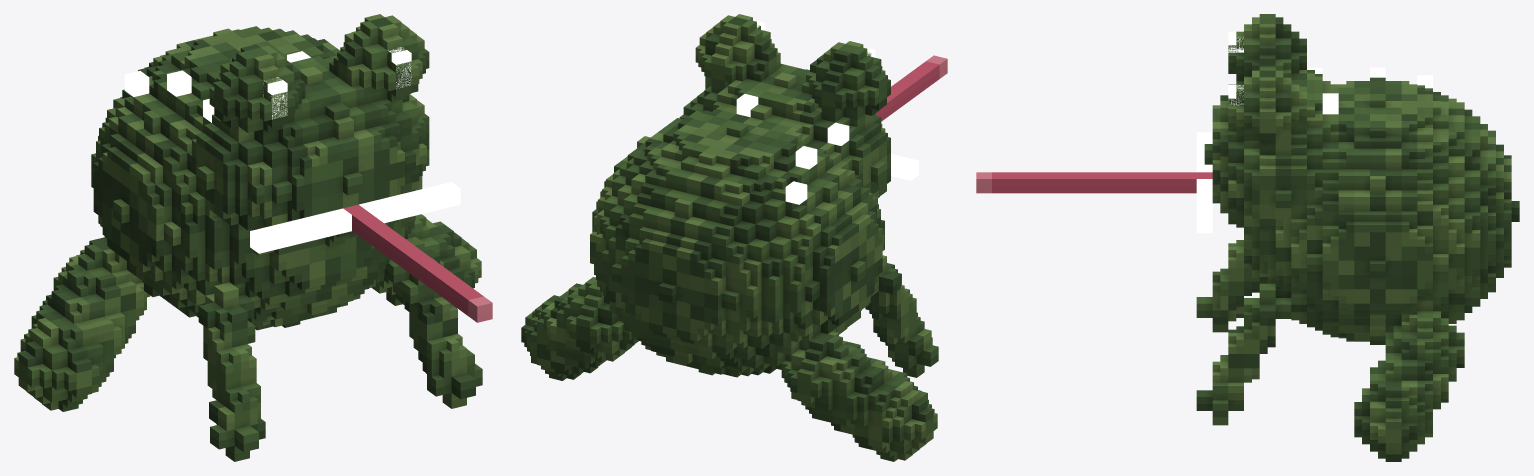
Rendered from u_crapaud.glb.
3 renders of one model, left to right at view 1: azimuth 30°, elevation 25°; view 2: azimuth 150°, elevation 25°; view 3: azimuth 270°, elevation 25°, orthographic. The views are drawn at different scales.
Parts seen in each view (by area): view 1: crapaud_body, crapaud_glow, crapaud_weapon; view 2: crapaud_body, crapaud_glow, crapaud_weapon; view 3: crapaud_body, crapaud_weapon, crapaud_glow.
Part boxes in pixels (<box>): crapaud_body: <box>14,14,482,461</box>; crapaud_glow: <box>124,47,460,253</box>; crapaud_weapon: <box>343,204,492,322</box>; crapaud_body: <box>521,14,938,461</box>; crapaud_glow: <box>736,20,918,204</box>; crapaud_weapon: <box>875,55,947,121</box>; crapaud_body: <box>1196,14,1519,461</box>; crapaud_weapon: <box>976,172,1212,193</box>; crapaud_glow: <box>1196,31,1432,233</box>.
Bounding box in the file's own units: 1.45 × 1.15 × 1.72.
